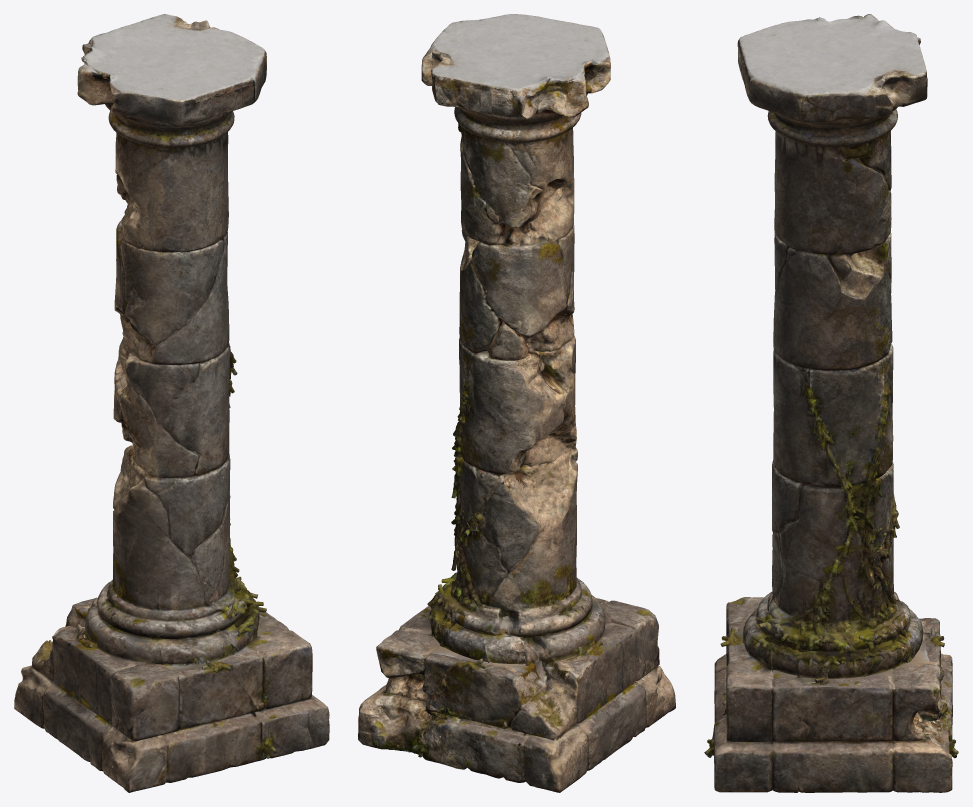
File: Dungeon_Pillar.glb
3 views of the same model, side by side, from view 1: azimuth 30°, elevation 25°; view 2: azimuth 150°, elevation 25°; view 3: azimuth 270°, elevation 25° (orthographic). The views are drawn at different scales.
Visible parts, largest first — view 1: YVO3D.obj; view 2: YVO3D.obj; view 3: YVO3D.obj.
Boxes of the visible parts, x1,y1,x2,y2 form: YVO3D.obj: (14,14,329,792); YVO3D.obj: (358,14,675,792); YVO3D.obj: (704,14,958,792).
Bounding box in the file's own units: 0.3055 × 0.98 × 0.3252.
Materials: 1 (1 with a texture image).
